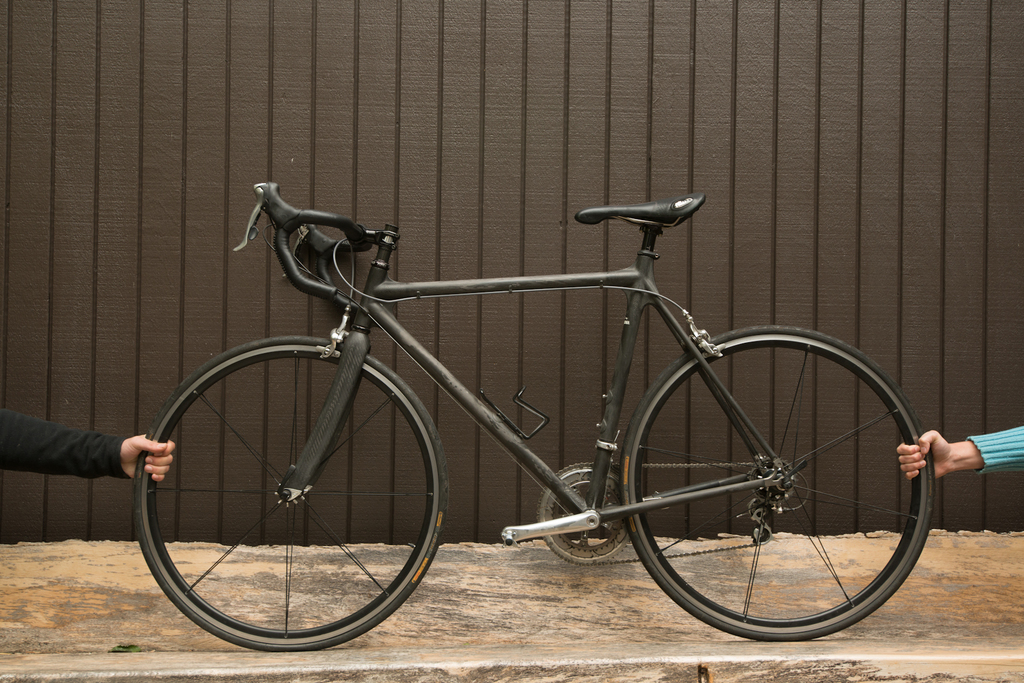Bike_toward: (152, 170, 932, 634)
